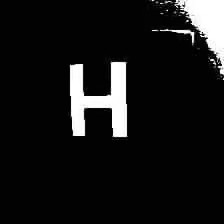LTR_H: (60, 48, 133, 144)
